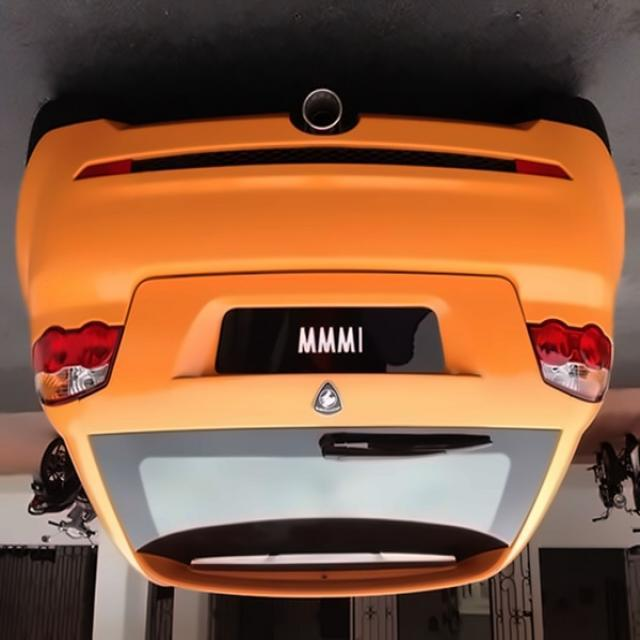car-plate: (211, 305, 451, 375)
